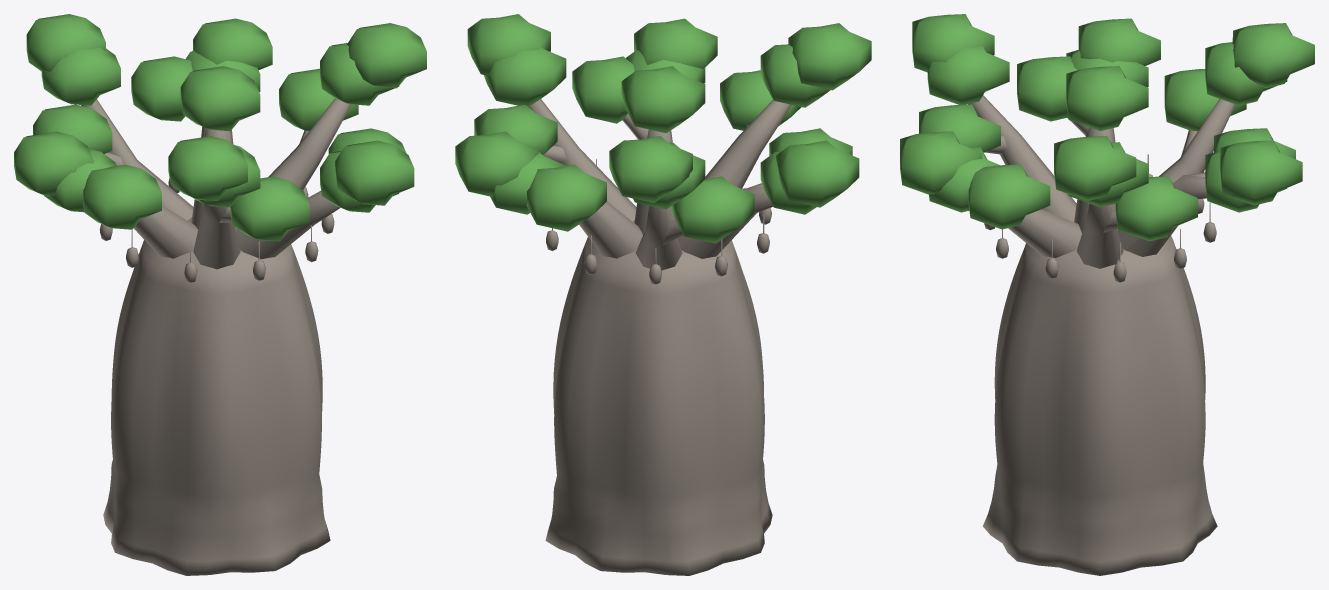
File: canopy_baobab.glb
The picture shows the model from 3 angles, left to right: view 1: azimuth 30°, elevation 25°; view 2: azimuth 150°, elevation 25°; view 3: azimuth 270°, elevation 25°; orthographic projection.
Visible parts, largest first — view 1: Flora_Grand_Baobab; view 2: Flora_Grand_Baobab; view 3: Flora_Grand_Baobab.
Boxes of the visible parts, x1=… form: Flora_Grand_Baobab: x1=14, y1=14, x2=426, y2=575; Flora_Grand_Baobab: x1=455, y1=14, x2=871, y2=575; Flora_Grand_Baobab: x1=900, y1=14, x2=1314, y2=575.
Size of the model in its own units: 14.66 by 16.6 by 13.46.
